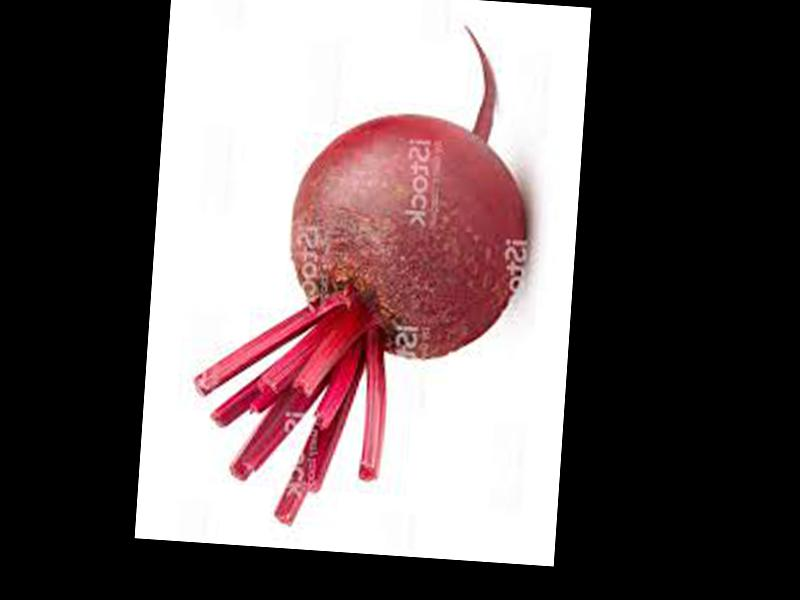Beet: (186, 9, 537, 538)
